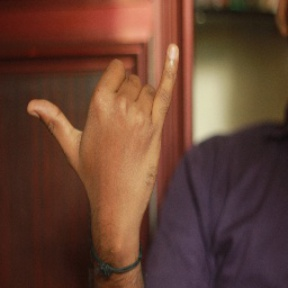J: (24, 39, 188, 231)
